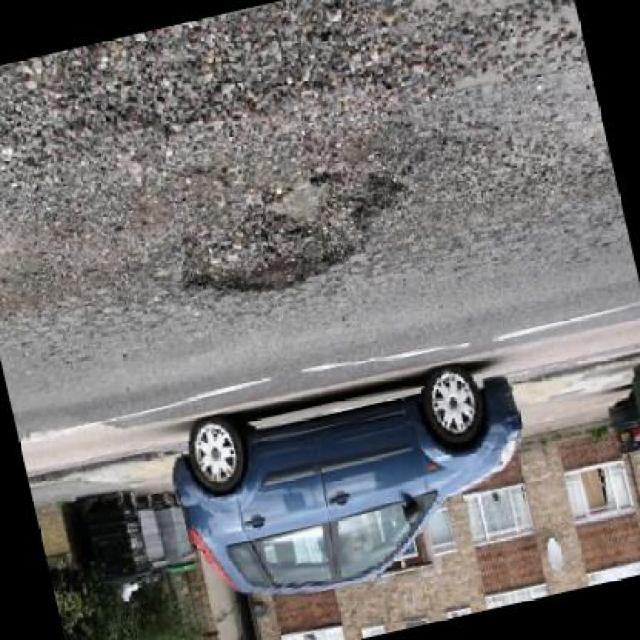pothole1: (162, 151, 423, 318)
